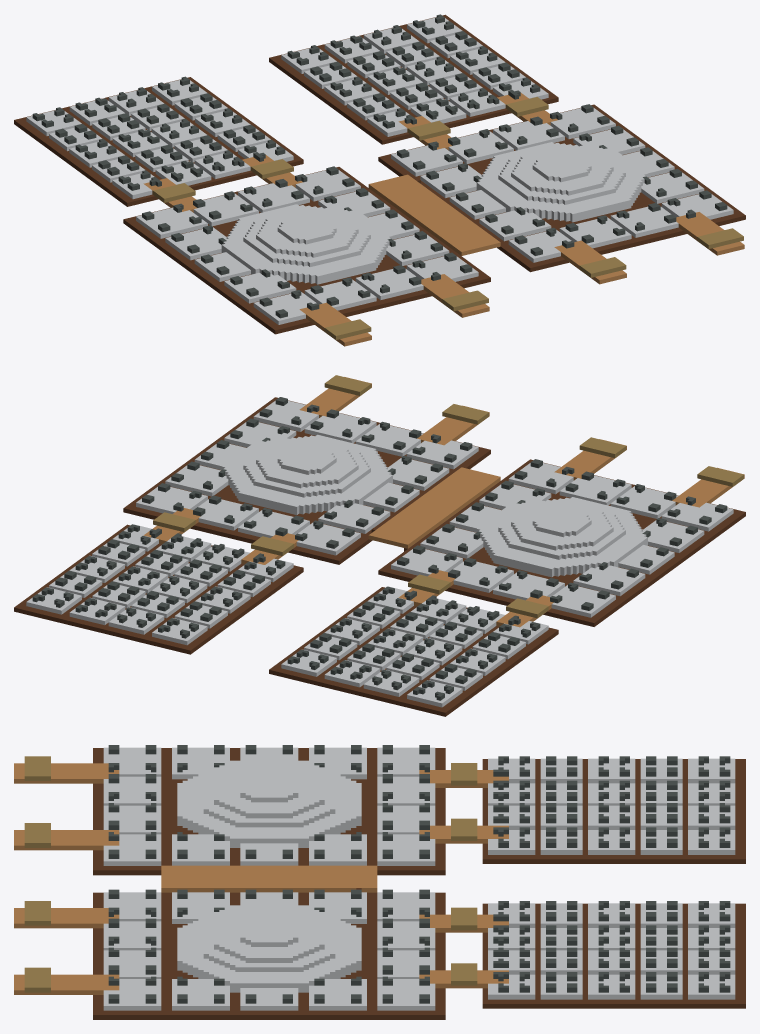
File: lc_mirror_armor.glb
3 views of the same model, one above another, from view 1: azimuth 30°, elevation 25°; view 2: azimuth 150°, elevation 25°; view 3: azimuth 270°, elevation 25° (orthographic). The views are drawn at different scales.
Visible parts, largest first — view 1: lc_mirror_armor:compound; view 2: lc_mirror_armor:compound; view 3: lc_mirror_armor:compound.
Boxes of the visible parts, x1,y1,x2,y2 form: lc_mirror_armor:compound: (14,14,745,346); lc_mirror_armor:compound: (14,375,745,716); lc_mirror_armor:compound: (14,745,745,1019).
Bounding box in the file's own units: 0.48 × 0.024 × 0.556.
